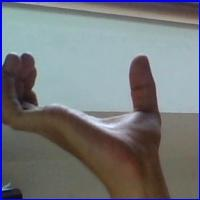B: (5, 39, 174, 179)
